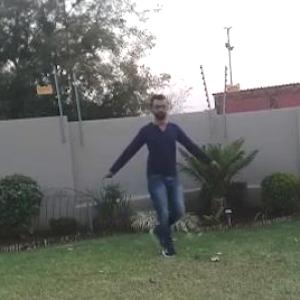land: (102, 101, 210, 244)
